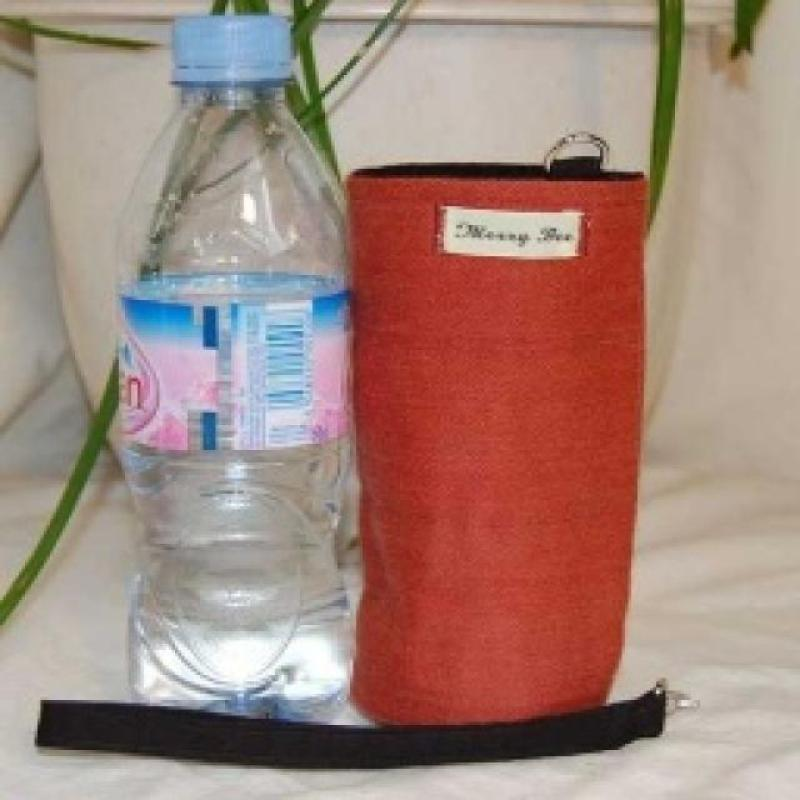botella: (109, 15, 363, 725)
